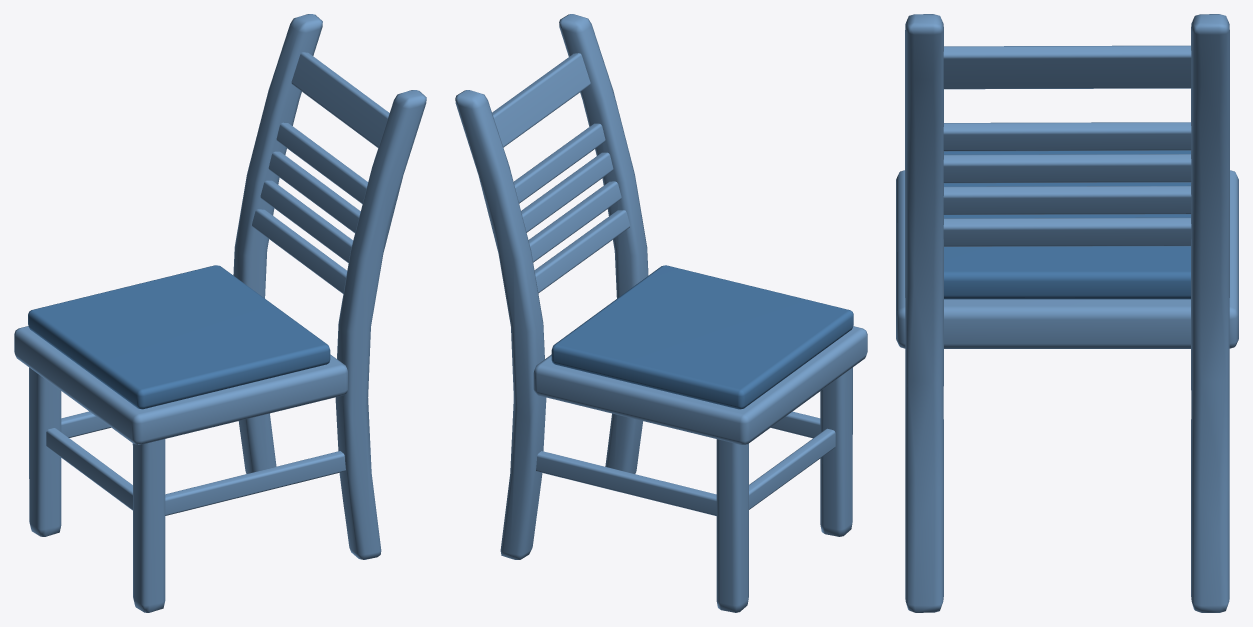
The model's file is chair_01_blue.fbx.
The picture shows the model from 3 angles, left to right: view 1: azimuth 30°, elevation 25°; view 2: azimuth 150°, elevation 25°; view 3: azimuth 270°, elevation 25°; orthographic projection. The views are drawn at different scales.
Visible parts, largest first — view 1: chair_01_blue; view 2: chair_01_blue; view 3: chair_01_blue.
Part boxes in pixels (left/top/right/bottom): chair_01_blue: left=14, top=14, right=426, bottom=612; chair_01_blue: left=455, top=14, right=867, bottom=612; chair_01_blue: left=896, top=14, right=1238, bottom=612.
Size of the model in its own units: 73.08 by 106 by 53.
Materials: 2 (2 with a texture image).
